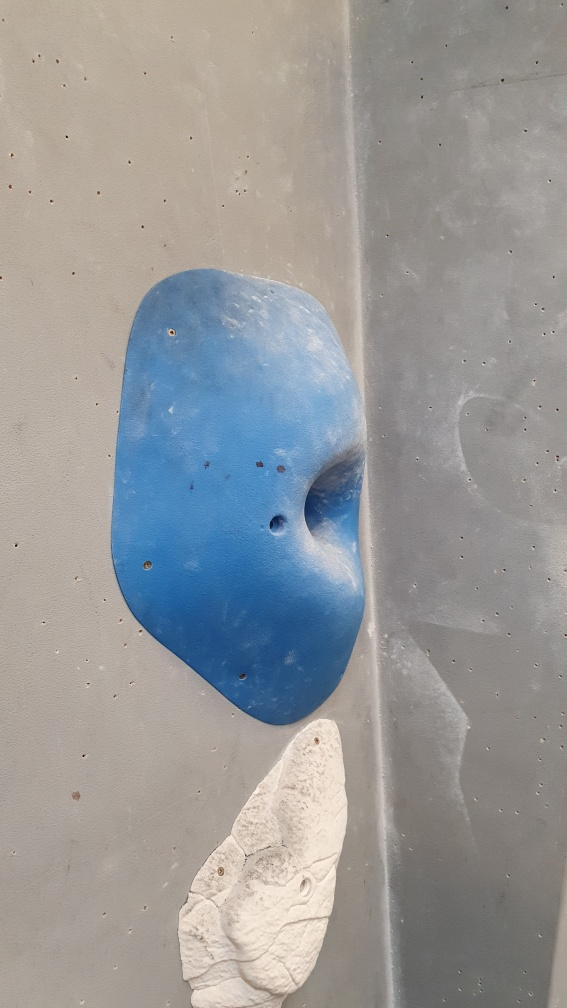Pocket: (105, 268, 366, 730)
